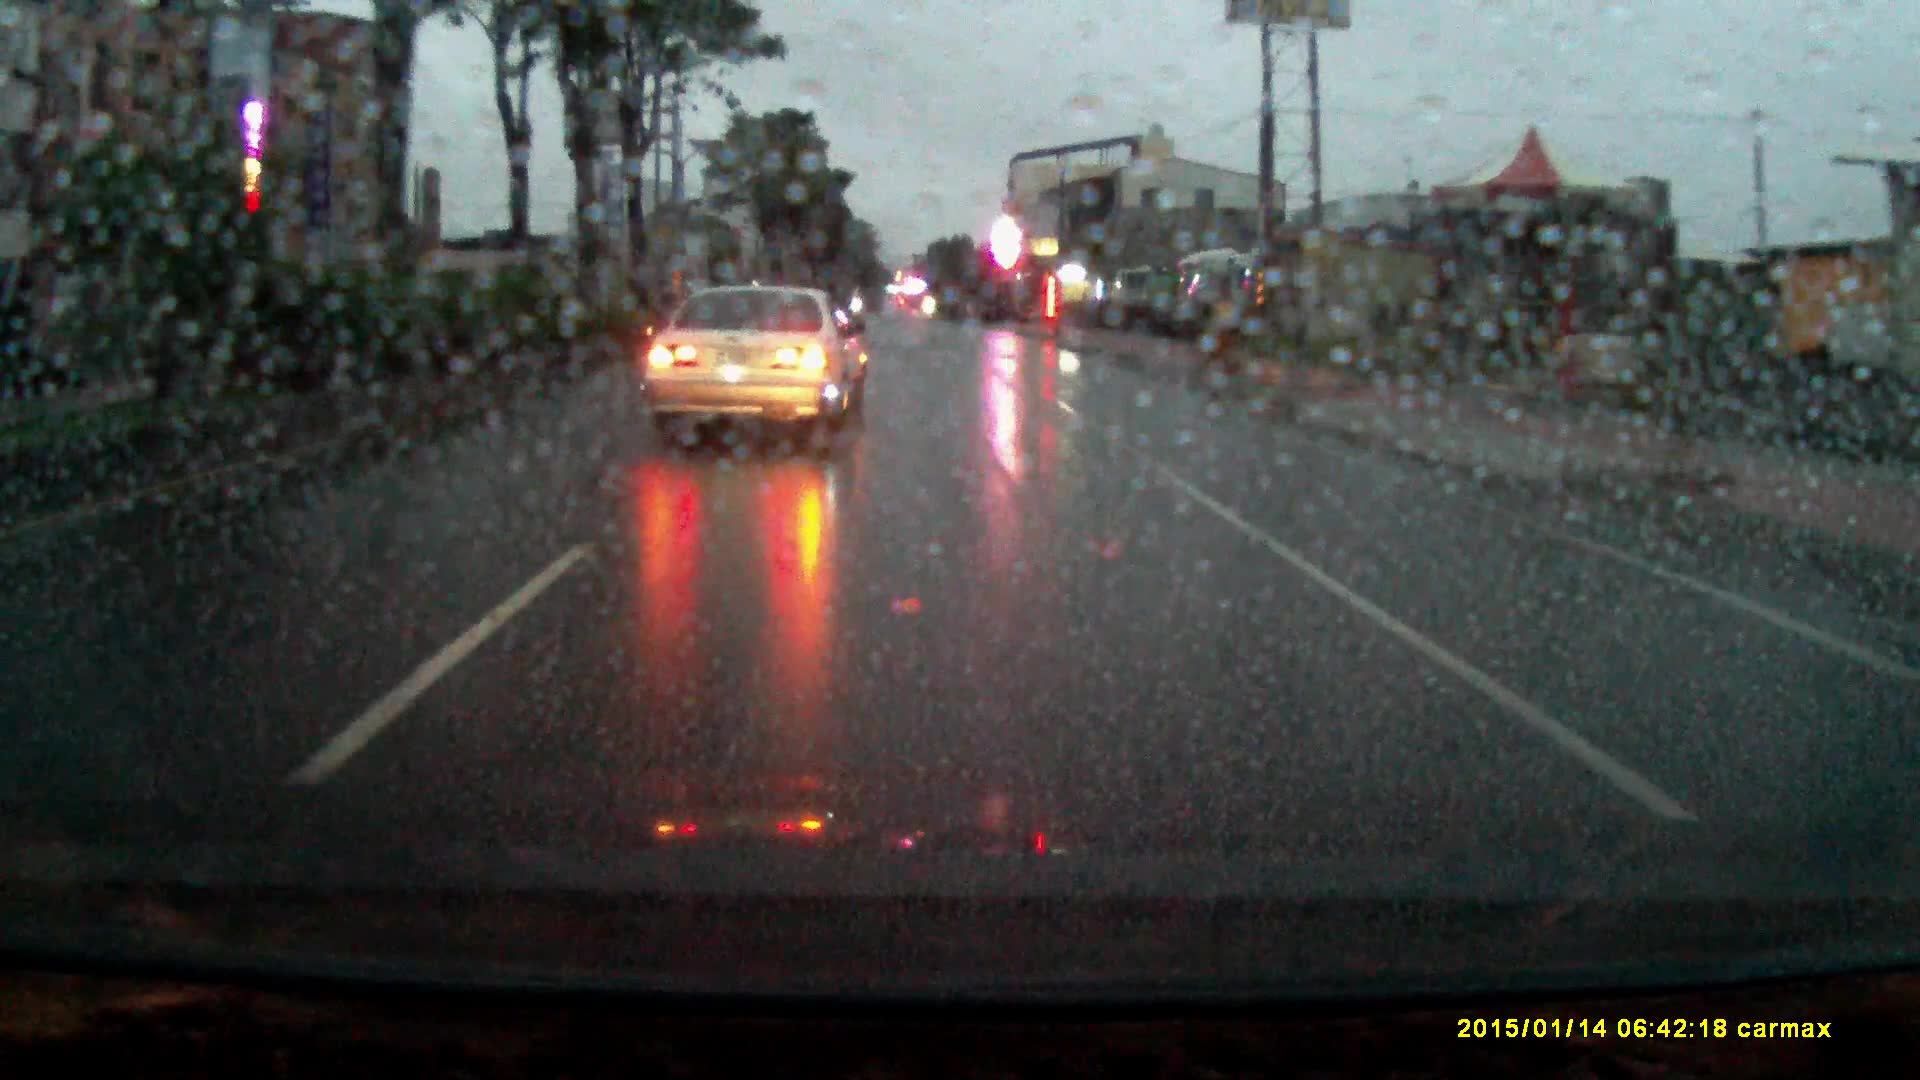vehicle: (640, 287, 876, 454), (1175, 257, 1255, 344), (1112, 272, 1160, 331)
